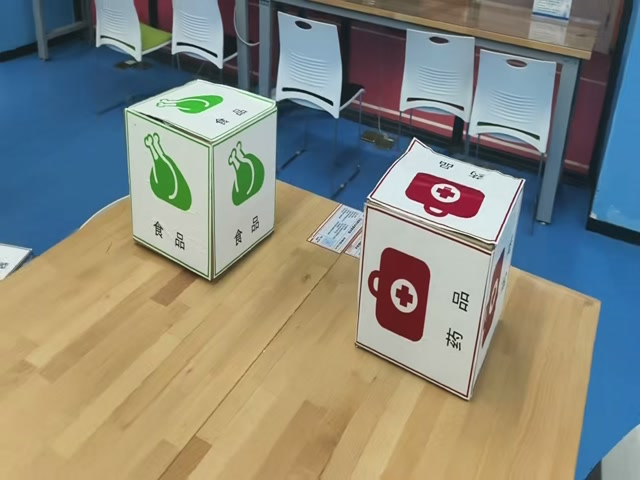Cube_food: (122, 81, 273, 150)
Cube_medicine: (361, 141, 520, 255)
